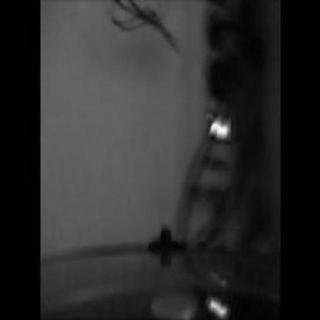other: (199, 274, 243, 316)
